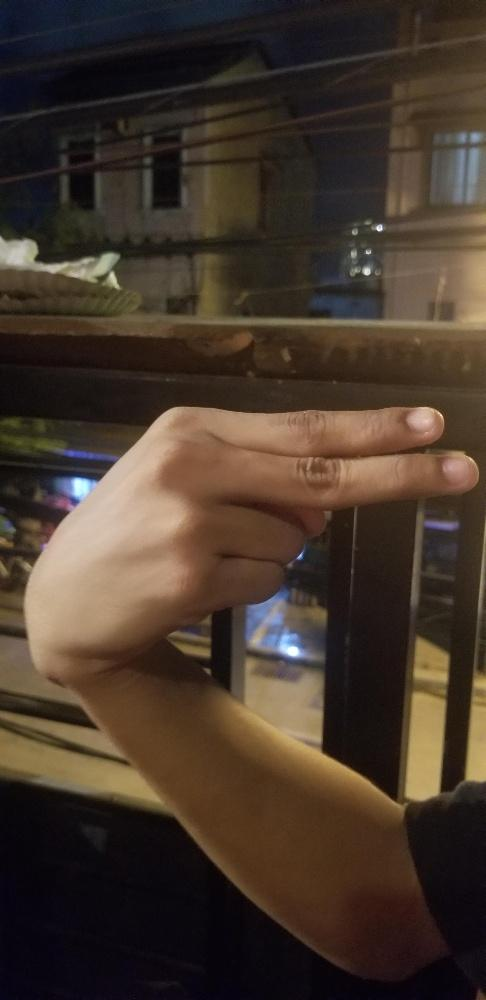h: (23, 400, 475, 674)
